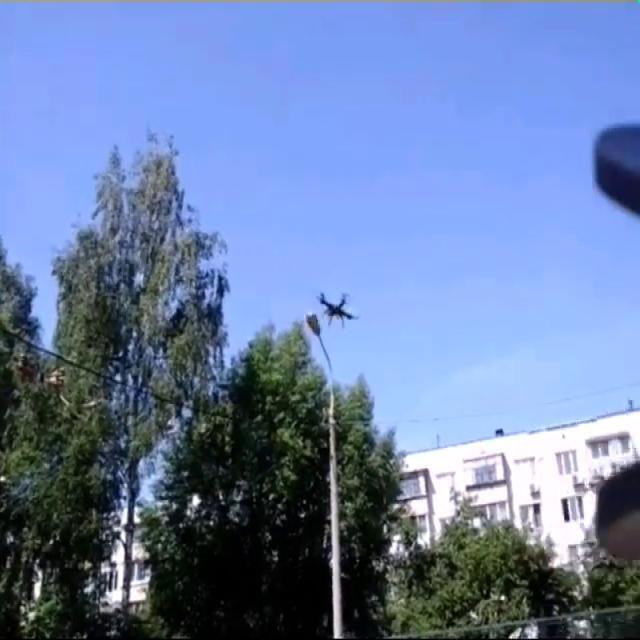Drons: (312, 286, 362, 330)
